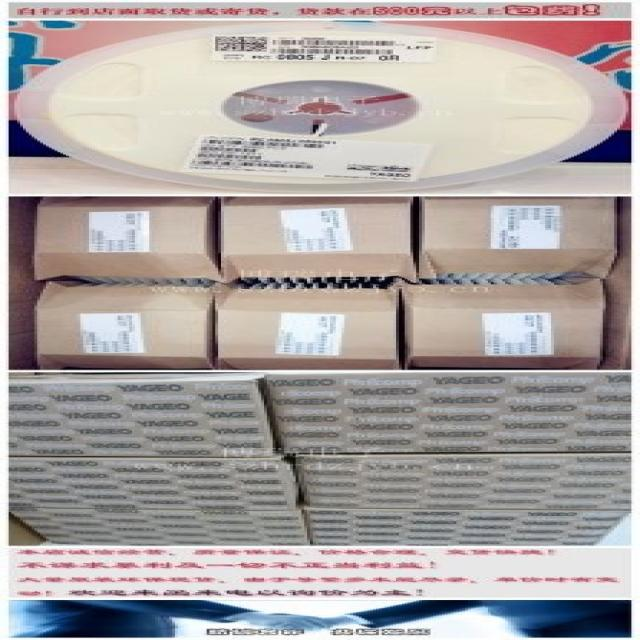box: (264, 372, 631, 454), (9, 373, 276, 457), (296, 453, 631, 510), (399, 278, 603, 370), (212, 278, 402, 370), (215, 197, 416, 283), (32, 197, 224, 283), (419, 197, 617, 280), (9, 454, 301, 510), (34, 281, 212, 370), (301, 504, 631, 546), (9, 506, 313, 546)
